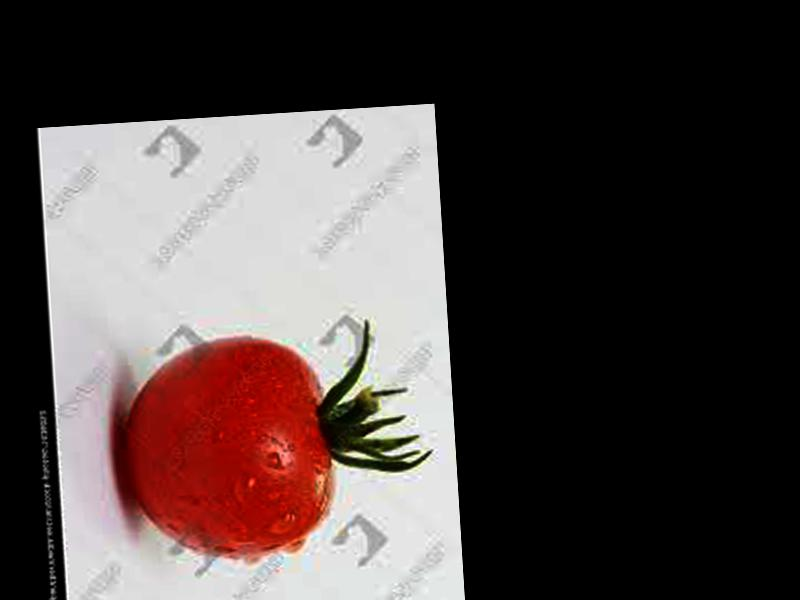Tomato: (115, 332, 335, 559)
